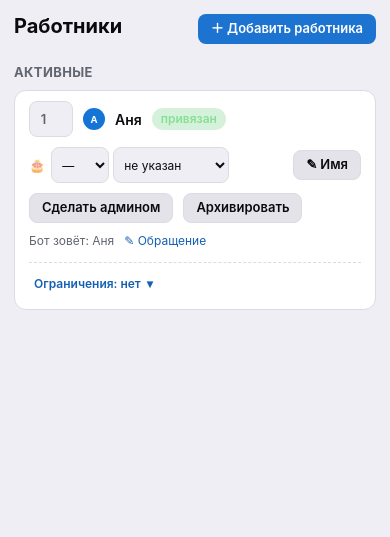
Test case: ограничения работника свёрнуты › раскрытие: три галки с прежними подписями и пояснениями
The image size is (390, 537).
Click the button with class "employee-restrictions-toggle" at (93, 284), box x1=29 y1=269 x2=158 y2=299
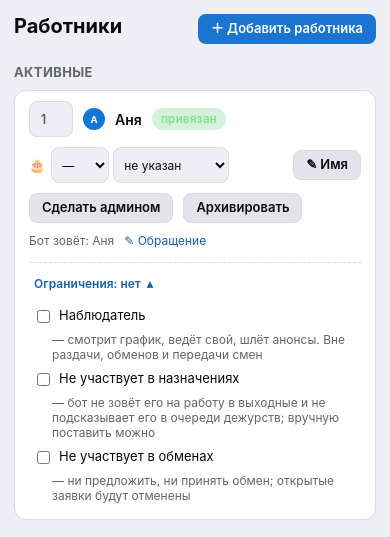
Now the button with class "employee-restrictions-toggle" is expanded, box x1=29 y1=269 x2=158 y2=299
